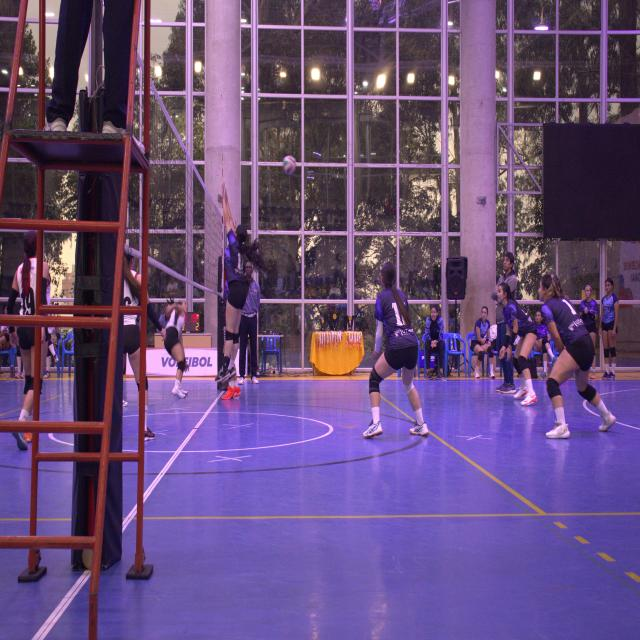volleyball: (283, 155, 296, 175)
